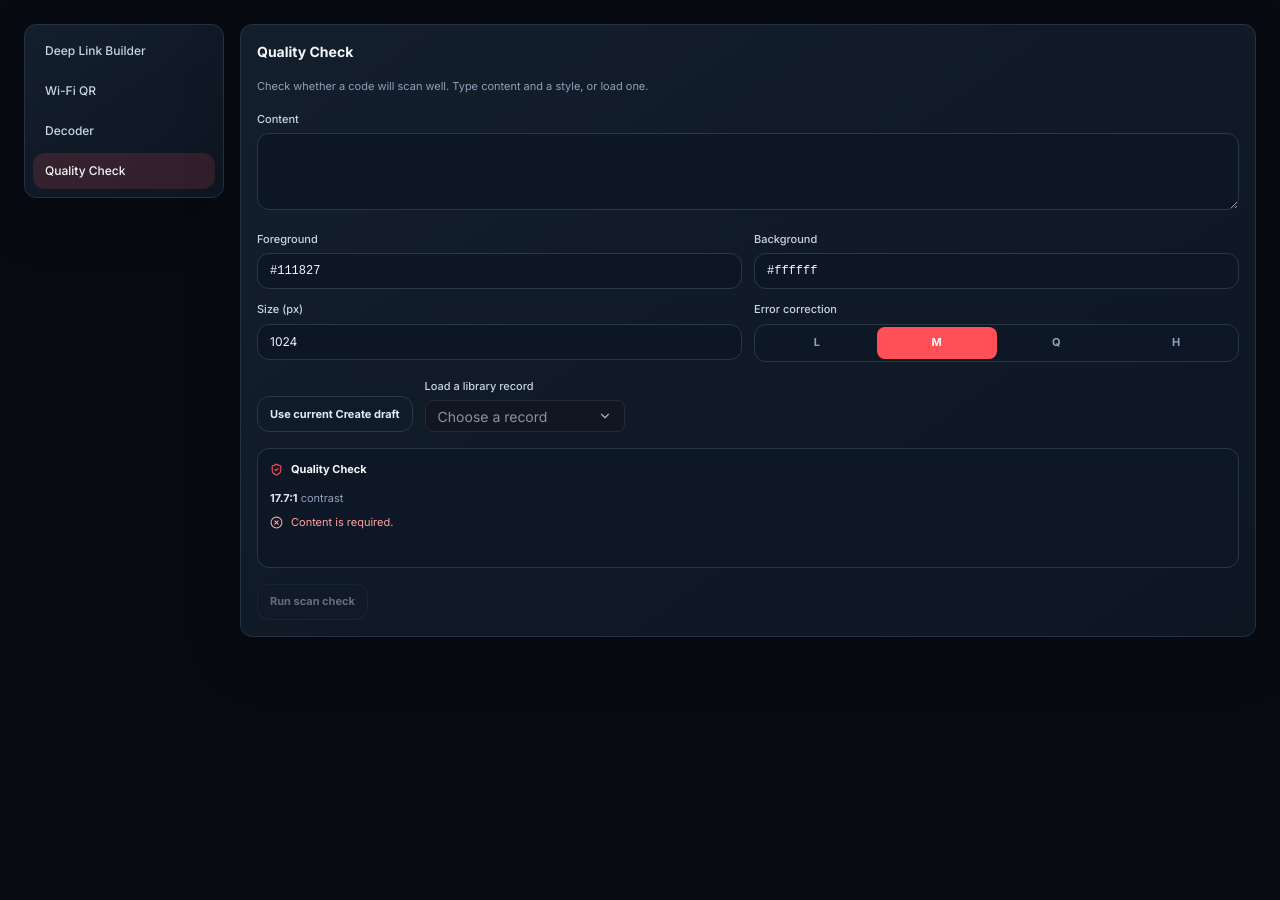
QR Quality Checker › loads the current Create draft
The width and height of the screenshot is (1280, 900).
Click the button "Use current Create draft": (335, 414) [257,396,413,432]
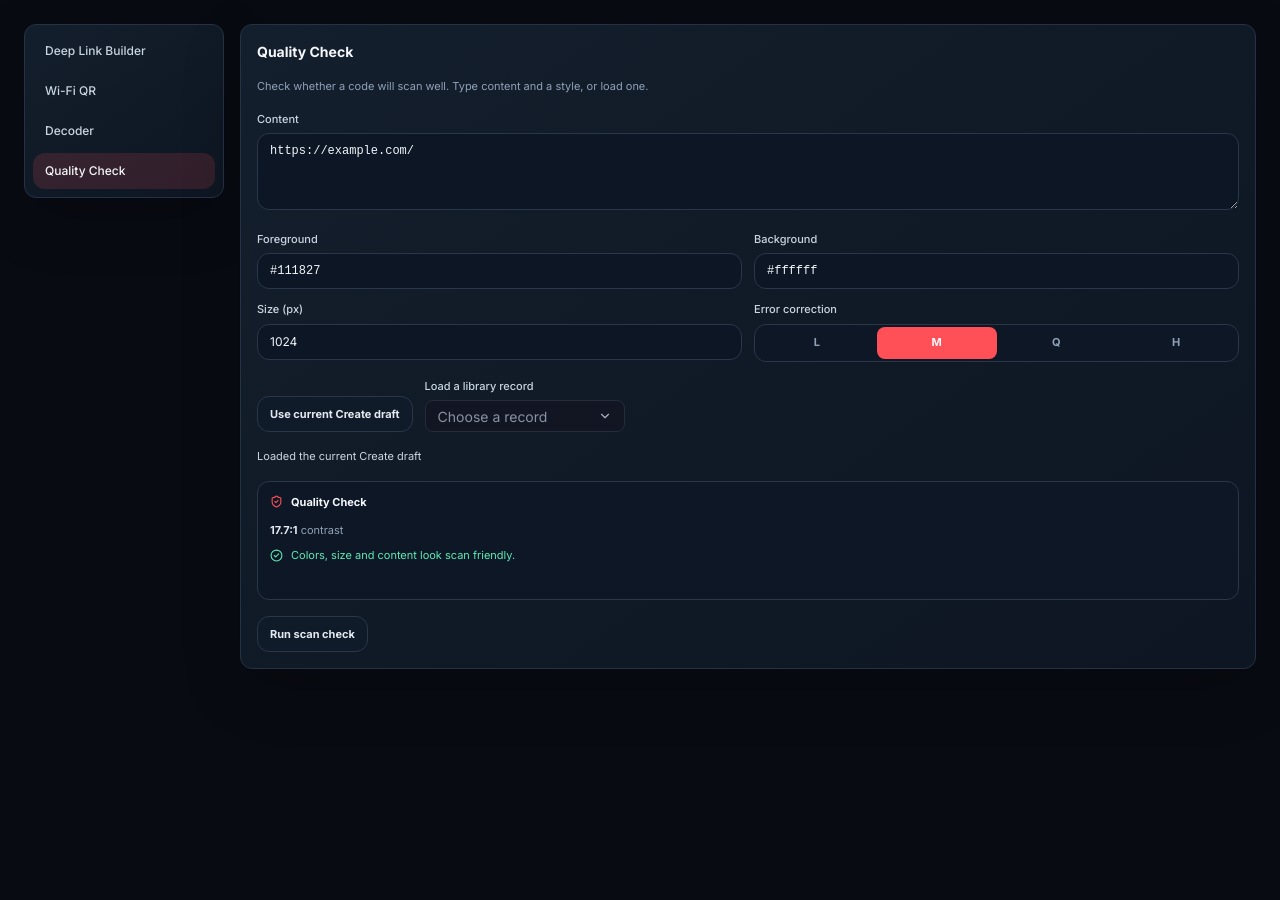
Now the text box labelled "Content" holds "https://example.com/", box [257,133,1239,210]
Now the text "Loaded the current Create draft" is shown, box [257,449,421,463]
